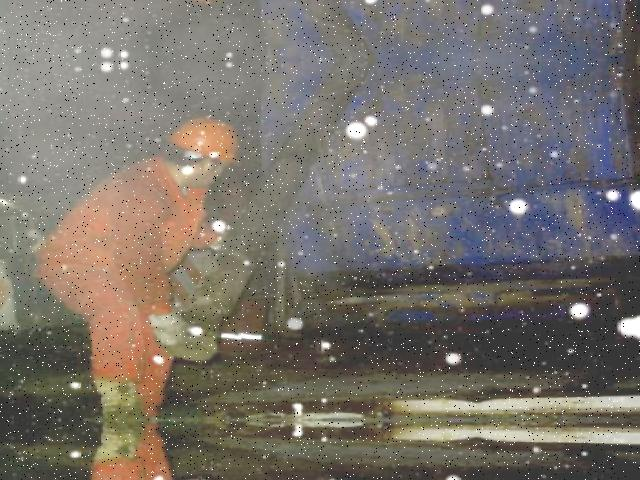Helmet: (160, 111, 248, 168)
